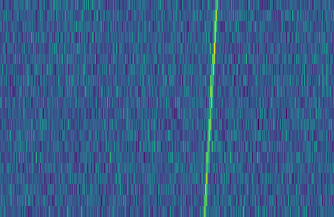signal: (200, 0, 222, 217)
